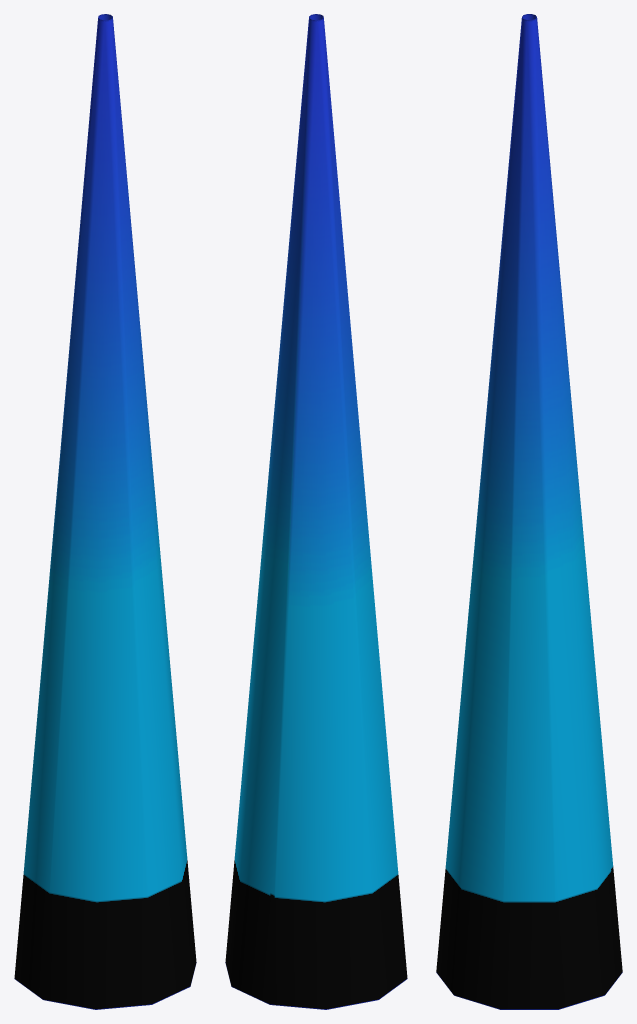
The model's file is LightCone_Blue.fbx.
3 views of the same model, side by side, from view 1: azimuth 30°, elevation 25°; view 2: azimuth 150°, elevation 25°; view 3: azimuth 270°, elevation 25° (orthographic).
Visible parts, largest first — view 1: SM_Light_Cone; view 2: SM_Light_Cone; view 3: SM_Light_Cone.
Boxes of the visible parts, left/top/right/bottom form: SM_Light_Cone: left=14, top=14, right=196, bottom=1009; SM_Light_Cone: left=225, top=14, right=407, bottom=1009; SM_Light_Cone: left=436, top=14, right=622, bottom=1009.
Size of the model in its own units: 330 by 1960 by 347.
1 material, 1 textured.
